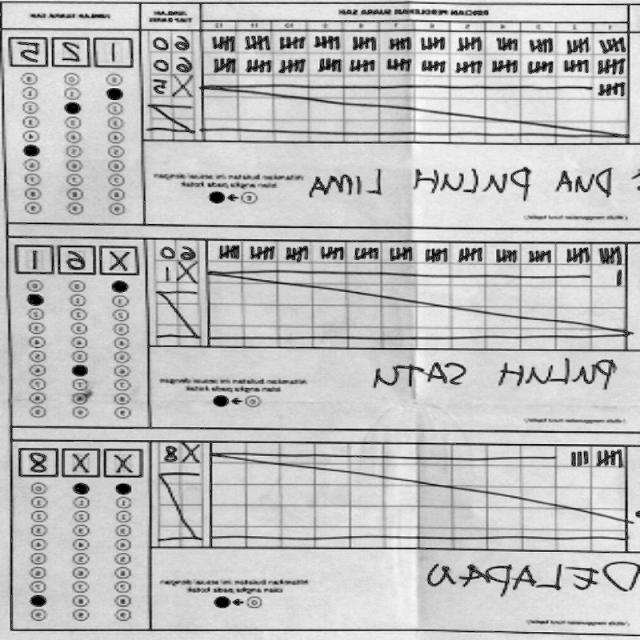Suara: (5, 30, 136, 67), (18, 447, 144, 479), (14, 247, 143, 272)
